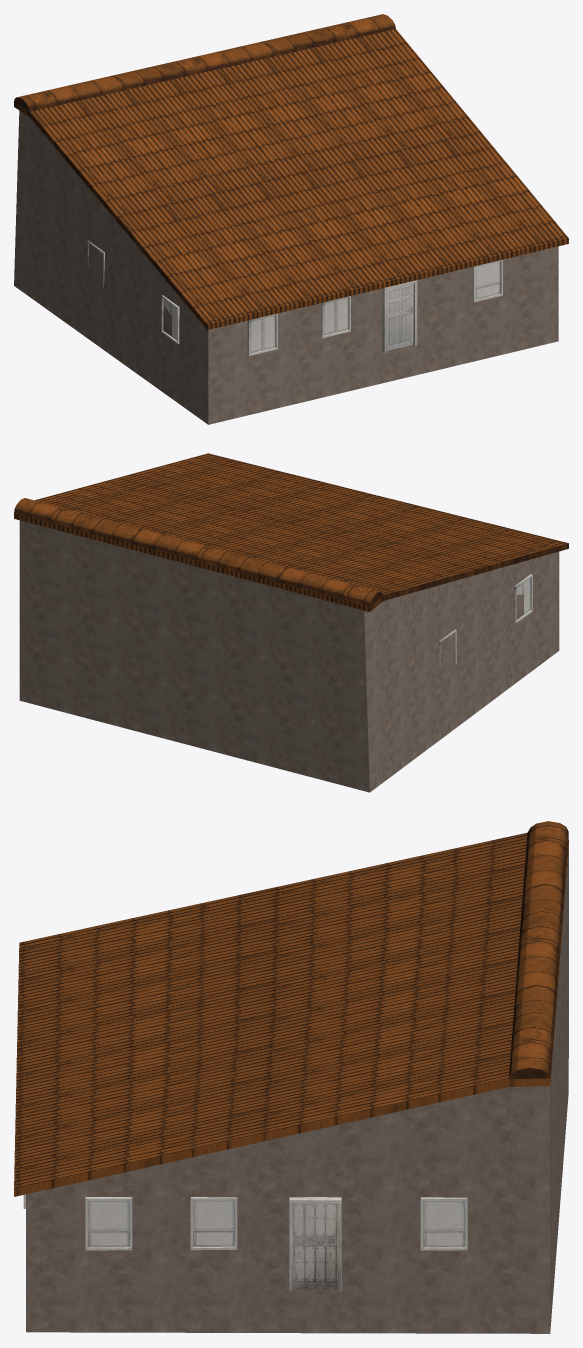
Rendered from Casa_16.fbx.
3 views of the same model, one above another, from view 1: azimuth 30°, elevation 25°; view 2: azimuth 150°, elevation 25°; view 3: azimuth 270°, elevation 25° (orthographic). The views are drawn at different scales.
Visible parts, largest first — view 1: Casa_16; view 2: Casa_16; view 3: Casa_16.
Boxes of the visible parts, left/top/right/bottom form: Casa_16: left=14, top=14, right=568, bottom=424; Casa_16: left=14, top=453, right=568, bottom=792; Casa_16: left=14, top=821, right=568, bottom=1333.
Bounding box in the file's own units: 11.75 × 5.96 × 11.09.
